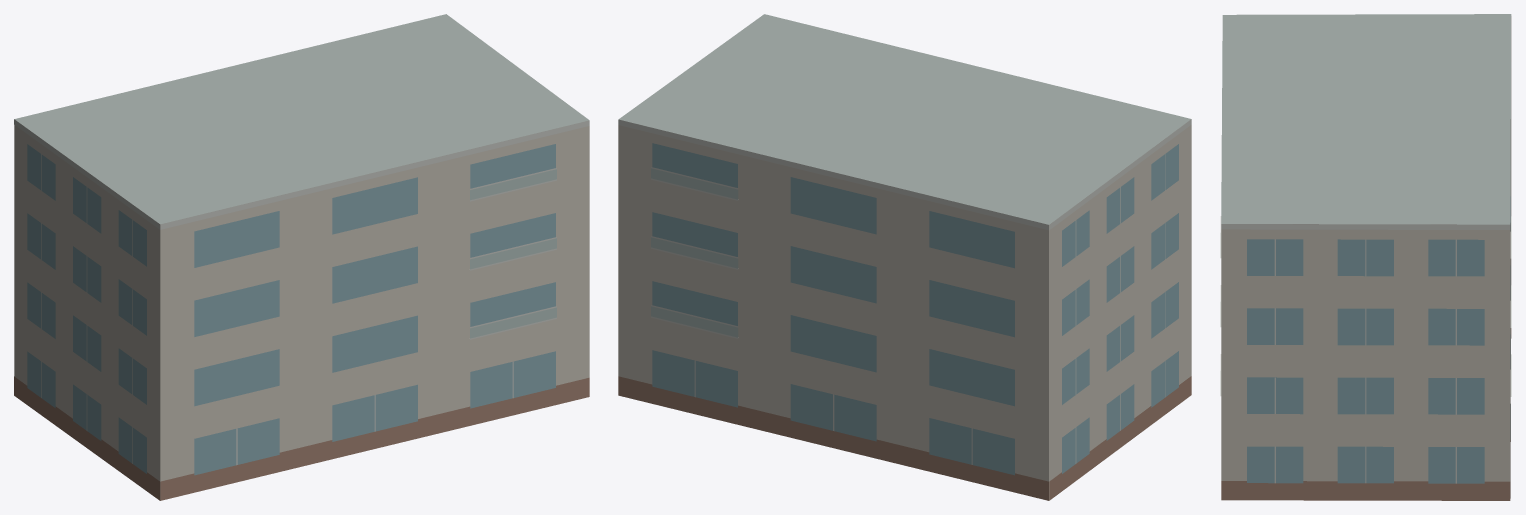
Rendered from survey-upis-32794853.glb.
3 views of the same model, side by side, from view 1: azimuth 30°, elevation 25°; view 2: azimuth 150°, elevation 25°; view 3: azimuth 270°, elevation 25° (orthographic).
Visible parts, largest first — view 1: survey-upis-32794853.tmp; view 2: survey-upis-32794853.tmp; view 3: survey-upis-32794853.tmp.
Boxes of the visible parts, <box> form: survey-upis-32794853.tmp: <box>14,14,589,500</box>; survey-upis-32794853.tmp: <box>618,14,1191,500</box>; survey-upis-32794853.tmp: <box>1220,14,1511,500</box>.
Bounding box in the file's own units: 19.95 × 12.2 × 11.66.
